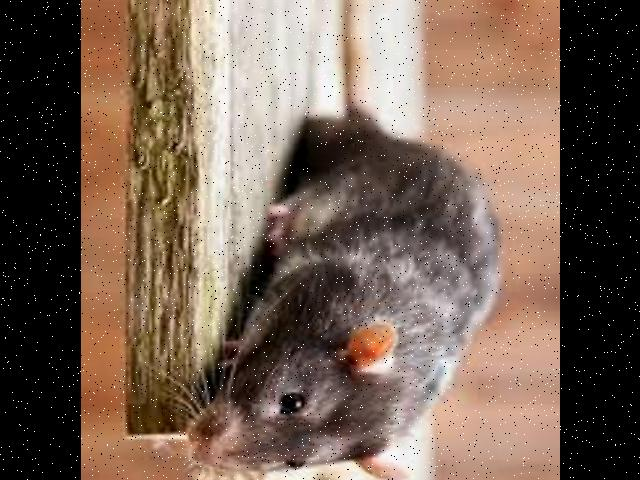Tikus: (172, 130, 504, 480)
